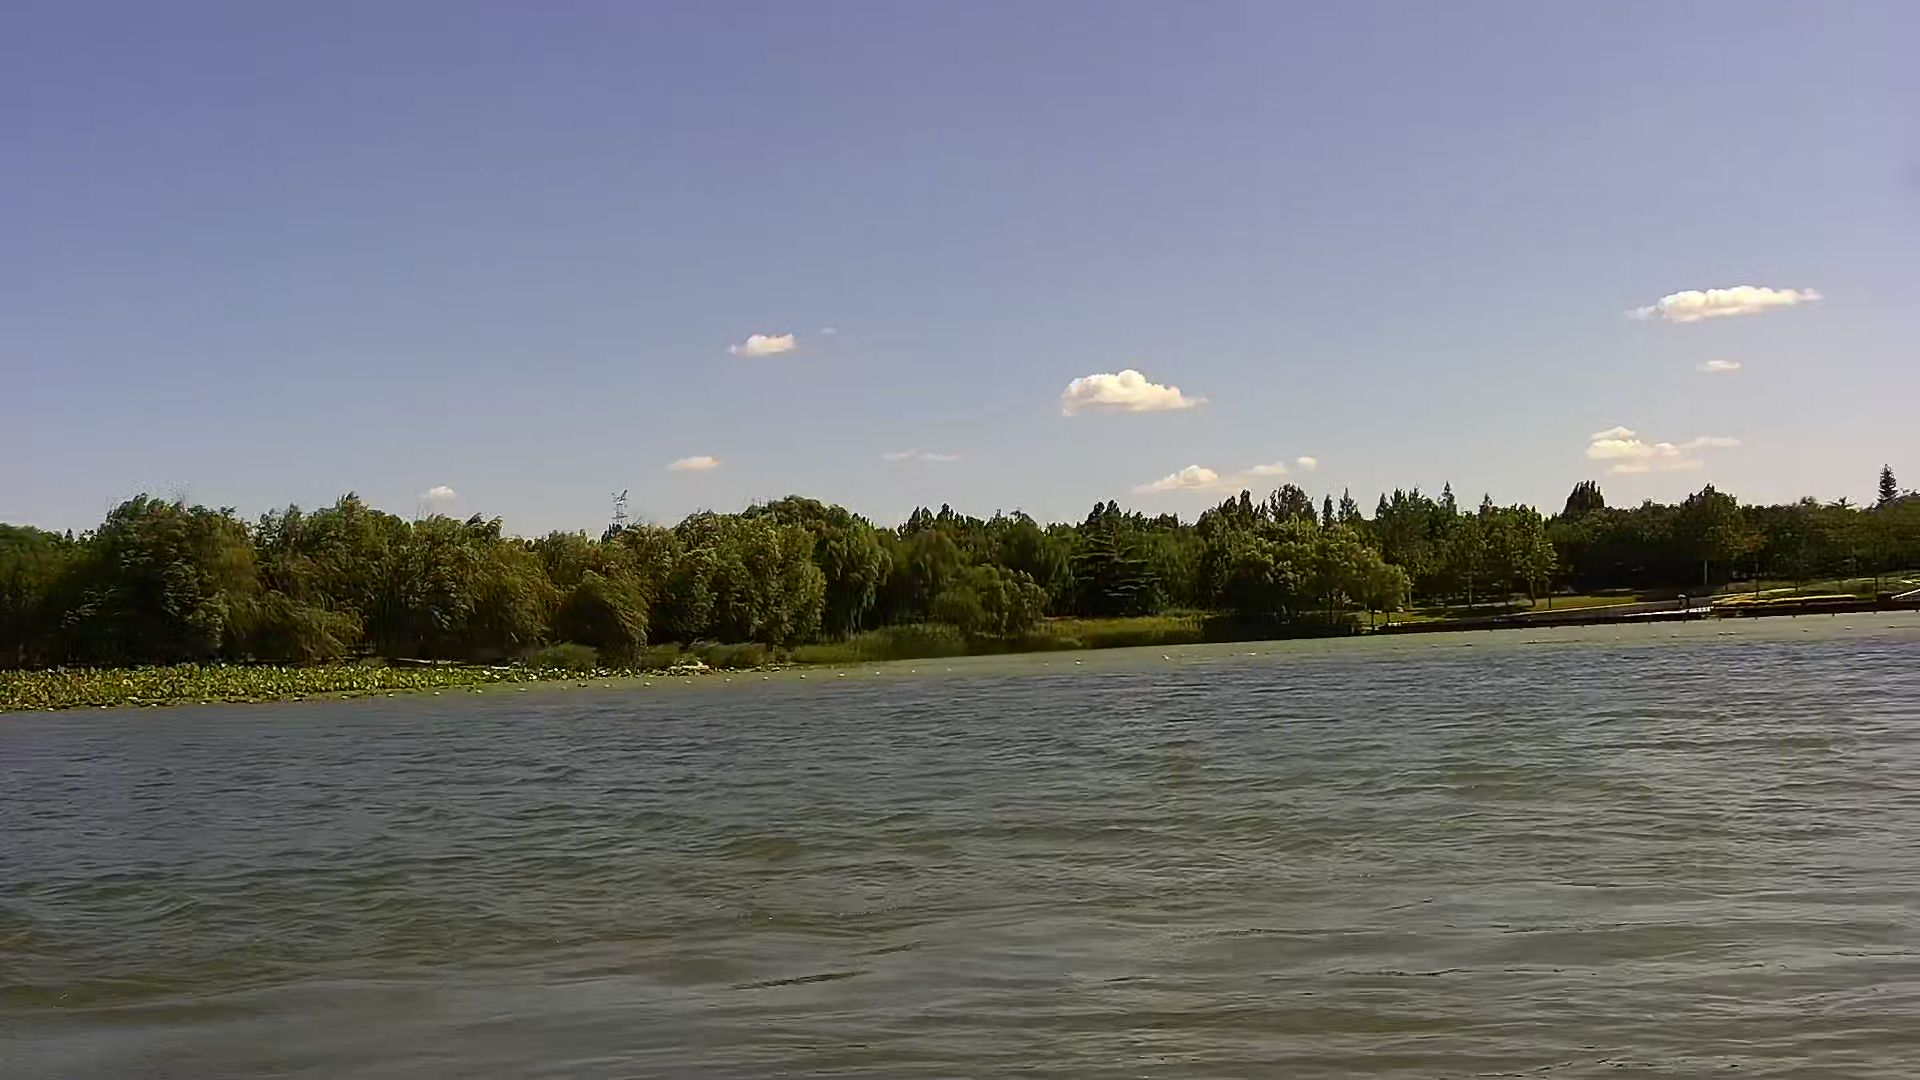grass: (1, 661, 666, 711)
